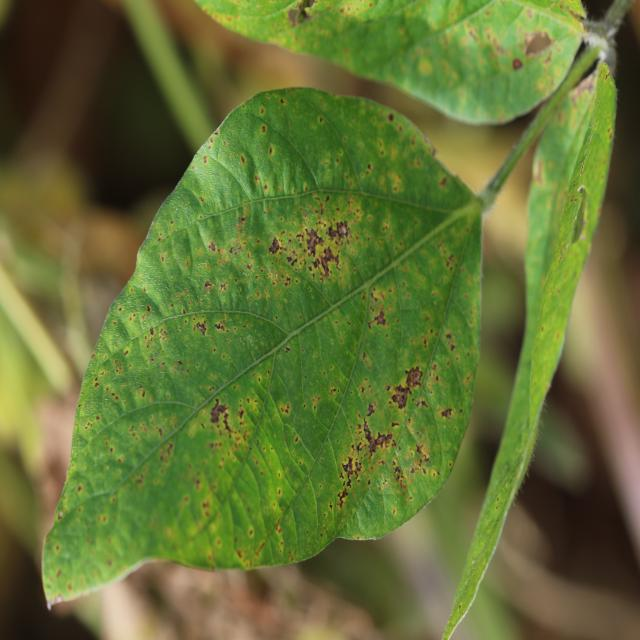Bacterial_Blight: (168, 398, 254, 526), (124, 402, 175, 459), (291, 219, 346, 269), (388, 373, 420, 411), (361, 421, 390, 457), (522, 28, 554, 59), (210, 390, 232, 434), (570, 196, 587, 245), (572, 71, 597, 101), (410, 442, 432, 474), (293, 1, 318, 24), (143, 325, 163, 350), (370, 309, 387, 329), (574, 183, 588, 207), (417, 57, 433, 76), (533, 159, 544, 184), (103, 387, 120, 403), (342, 456, 355, 476), (268, 236, 281, 255), (337, 488, 348, 509), (194, 320, 207, 335), (445, 332, 456, 347), (229, 244, 242, 256), (440, 407, 453, 419), (203, 280, 214, 293), (366, 403, 376, 417), (286, 254, 297, 266), (446, 254, 455, 268), (280, 403, 290, 415), (512, 58, 522, 70), (340, 224, 349, 237), (214, 322, 225, 332), (114, 363, 123, 375), (439, 176, 448, 187), (208, 241, 216, 252), (220, 282, 227, 292), (580, 161, 585, 174), (57, 511, 64, 520), (240, 155, 246, 165), (94, 378, 100, 388), (366, 163, 372, 173), (77, 484, 83, 493), (388, 112, 394, 121), (146, 304, 151, 313), (285, 346, 291, 353), (177, 359, 183, 366), (203, 156, 208, 164), (261, 125, 266, 133), (328, 502, 333, 510), (269, 146, 273, 155), (124, 349, 129, 356), (160, 255, 165, 262), (294, 436, 299, 443), (214, 129, 219, 135), (199, 197, 204, 203), (280, 98, 285, 104), (458, 603, 462, 610), (263, 184, 267, 190), (366, 320, 367, 324)
Soybean: (43, 89, 481, 601)
